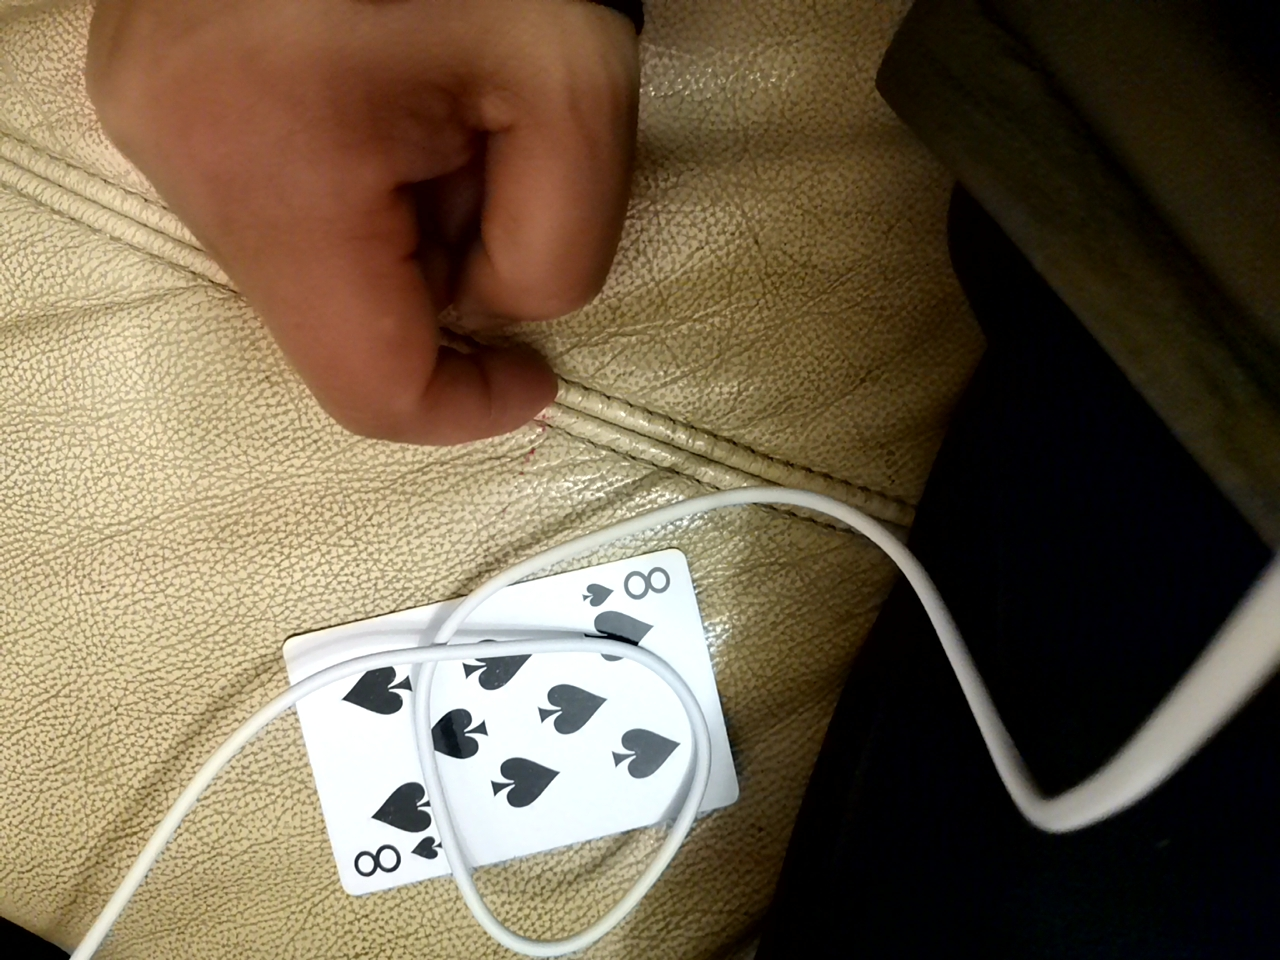ht 8: (255, 569, 737, 908)
